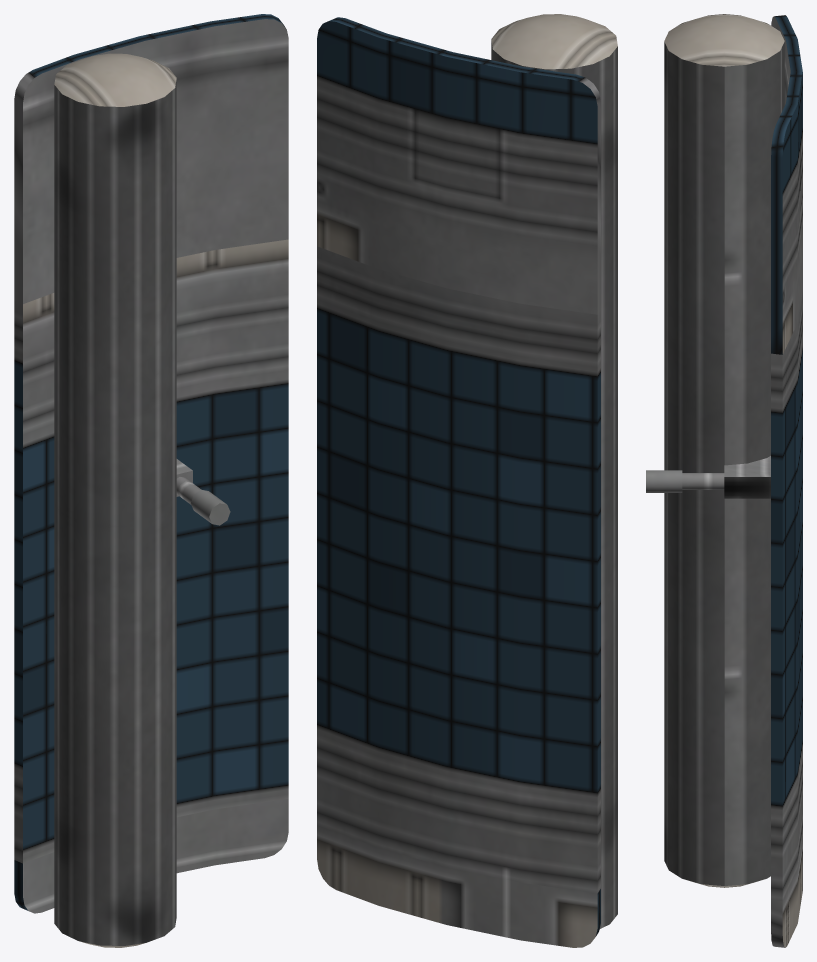
Rendered from single_long_rad.obj.
3 views of the same model, side by side, from view 1: azimuth 30°, elevation 25°; view 2: azimuth 150°, elevation 25°; view 3: azimuth 270°, elevation 25° (orthographic). The views are drawn at different scales.
Parts seen in each view (by area): view 1: 1; view 2: 1; view 3: 1.
Part boxes in pixels (bbox=[...]): 1: bbox=[14, 14, 288, 947]; 1: bbox=[317, 14, 617, 947]; 1: bbox=[646, 14, 802, 947].
Bounding box in the file's own units: 0.6341 × 1.95 × 0.325.
